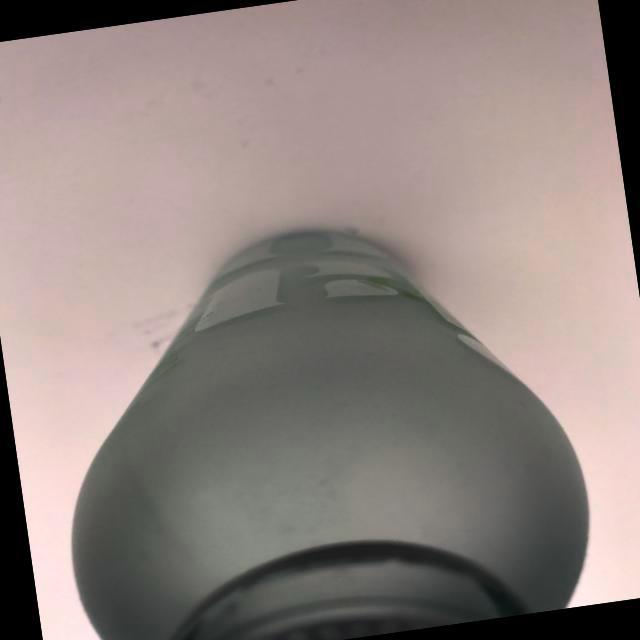glass: (23, 179, 609, 640)
